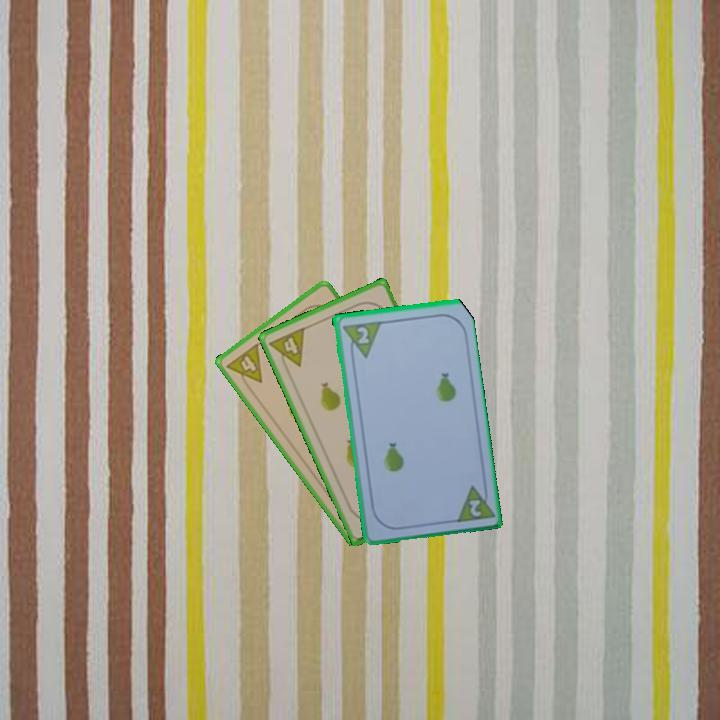2p: (338, 317, 382, 362), (465, 495, 484, 520)
4p: (223, 339, 265, 393), (266, 323, 308, 375)
